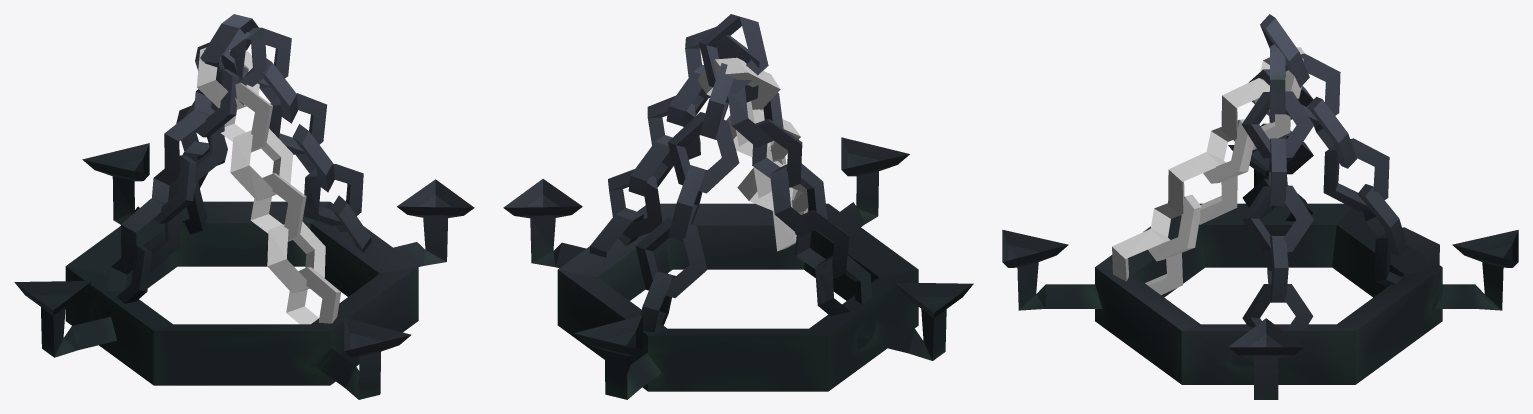
The model's file is lamp.obj.
3 renders of one model, left to right at view 1: azimuth 30°, elevation 25°; view 2: azimuth 150°, elevation 25°; view 3: azimuth 270°, elevation 25°, orthographic. The views are drawn at different scales.
Parts seen in each view (by area): view 1: Lampara.000_Circle.068; view 2: Lampara.000_Circle.068; view 3: Lampara.000_Circle.068.
Part boxes in pixels (left/top/right/bottom): Lampara.000_Circle.068: left=14, top=14, right=474, bottom=399; Lampara.000_Circle.068: left=503, top=14, right=973, bottom=399; Lampara.000_Circle.068: left=1002, top=14, right=1518, bottom=399.
Bounding box in the file's own units: 3.35 × 2.32 × 3.6.
